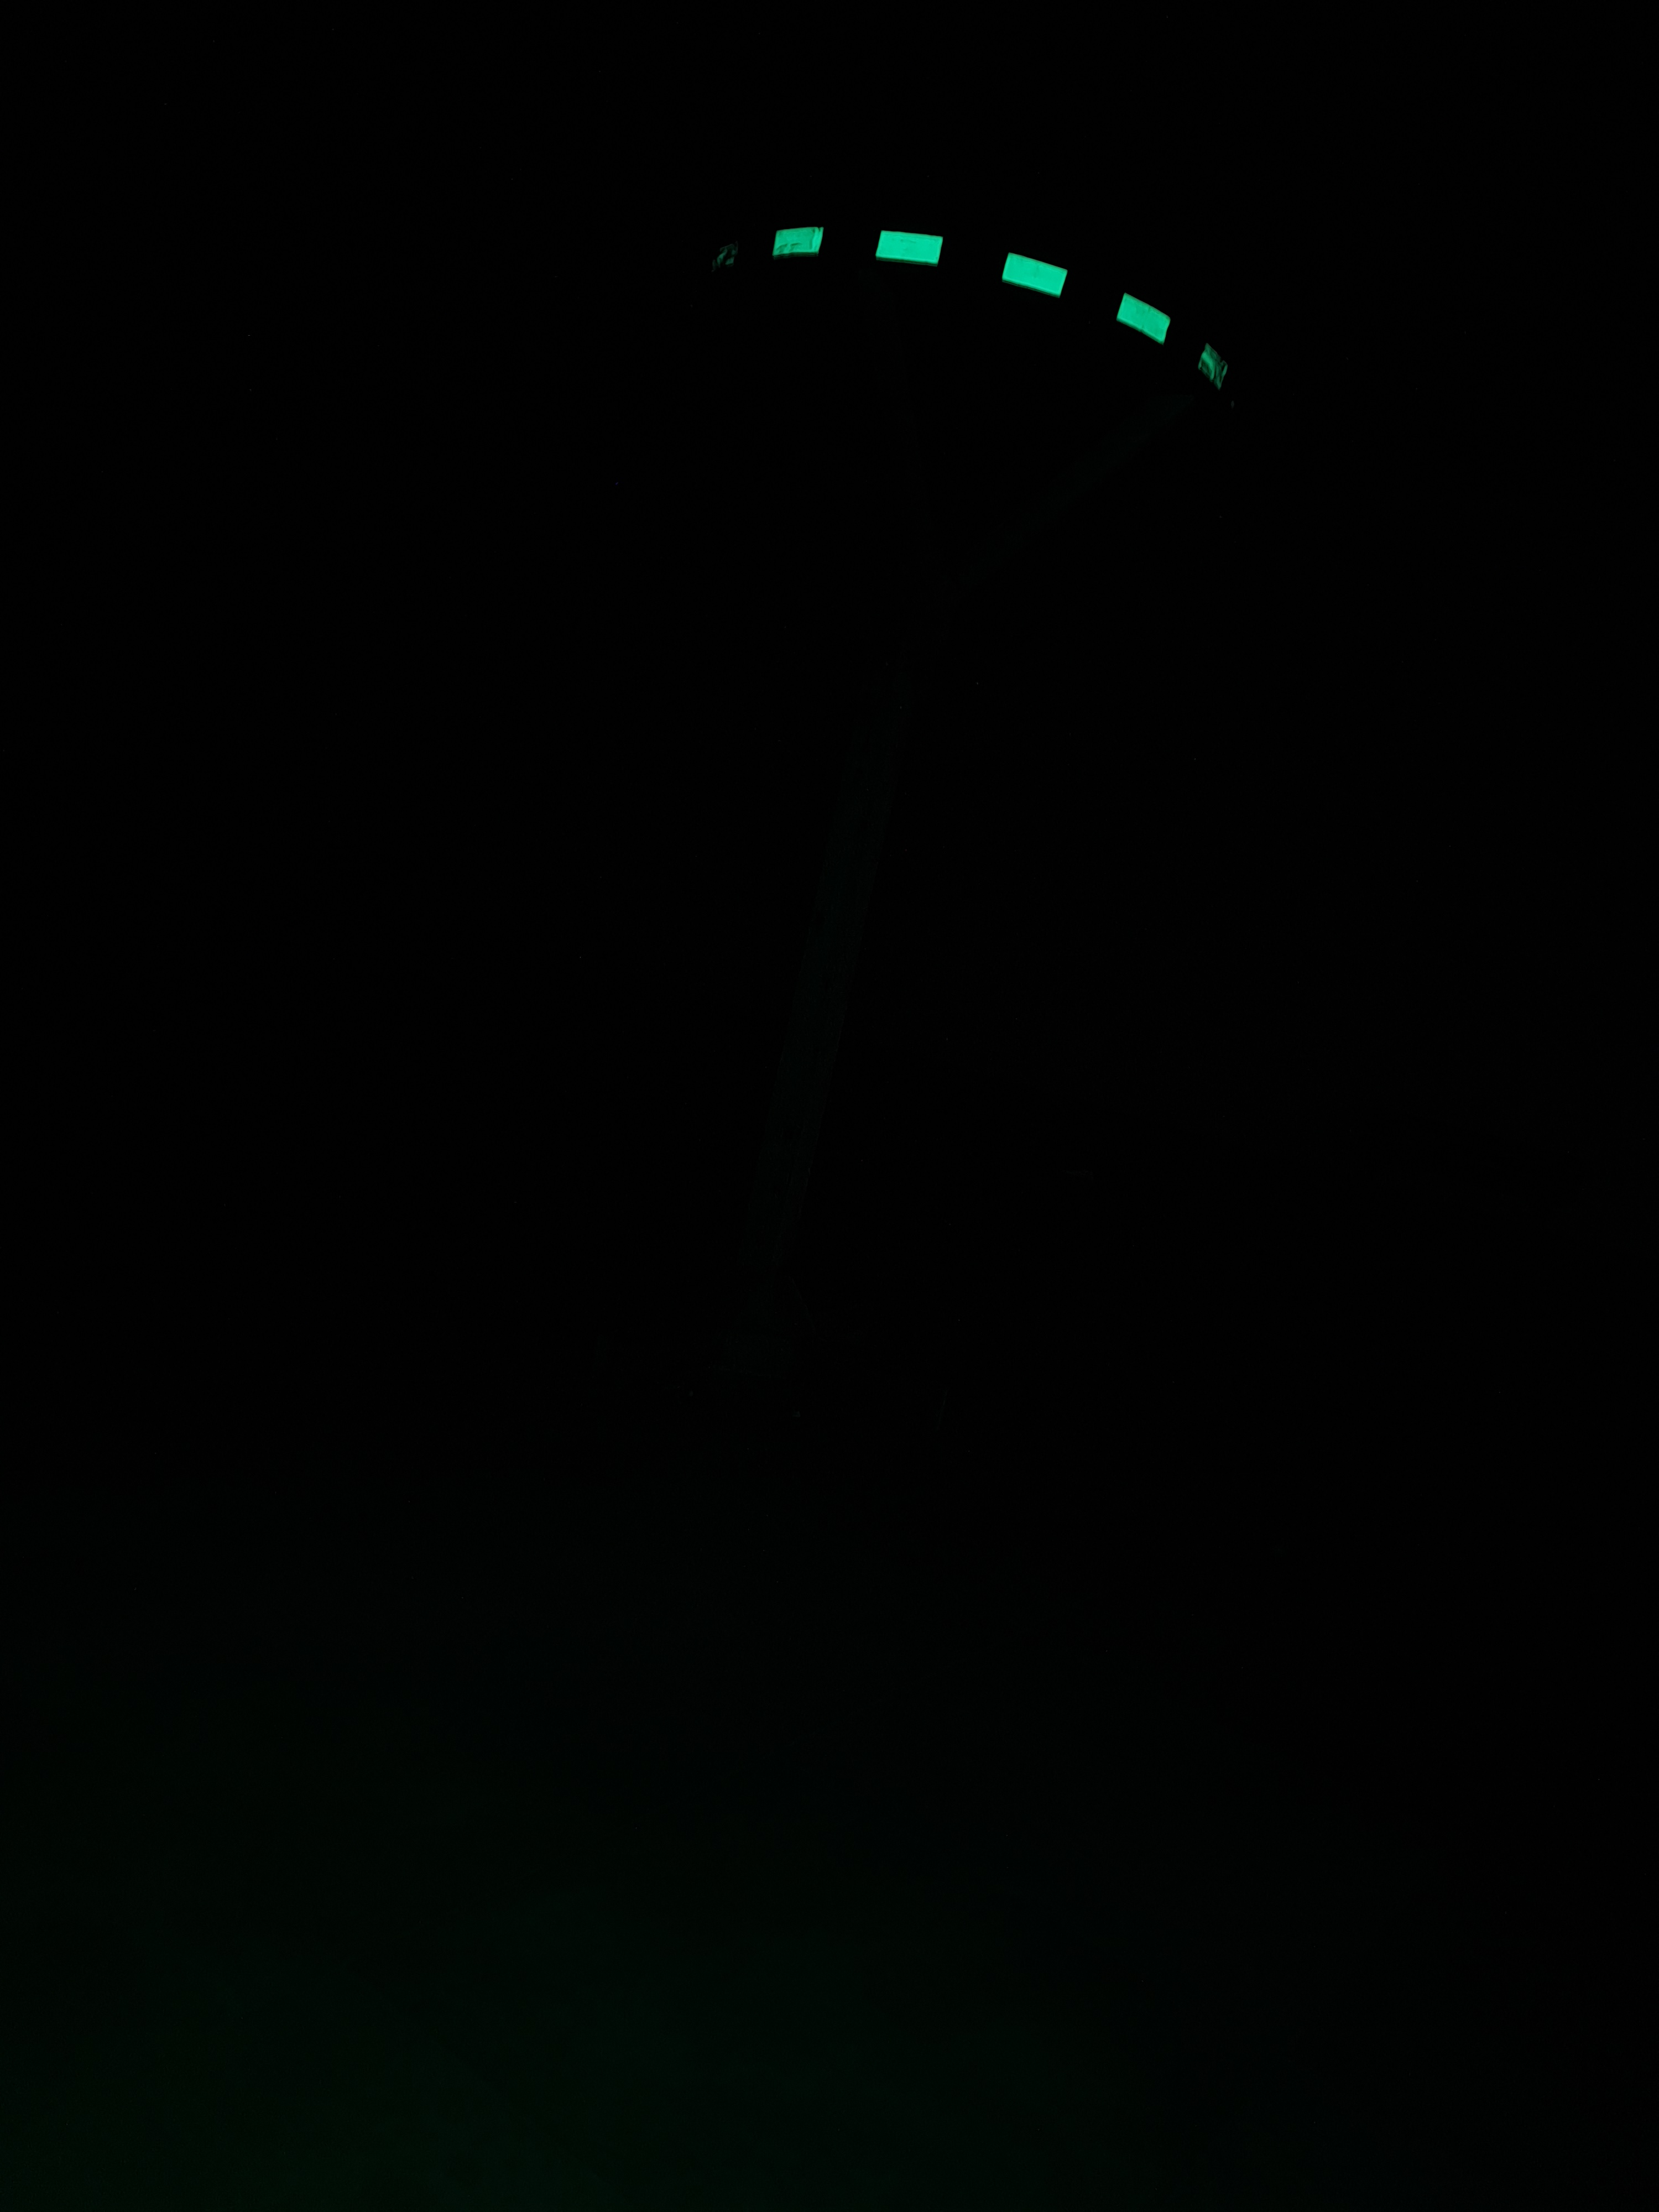hoop: (708, 223, 1236, 394)
